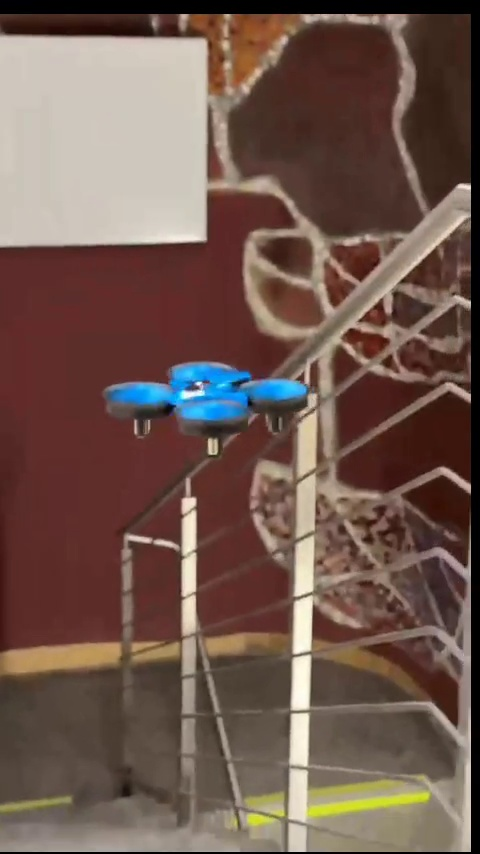drone: (108, 365, 302, 459)
